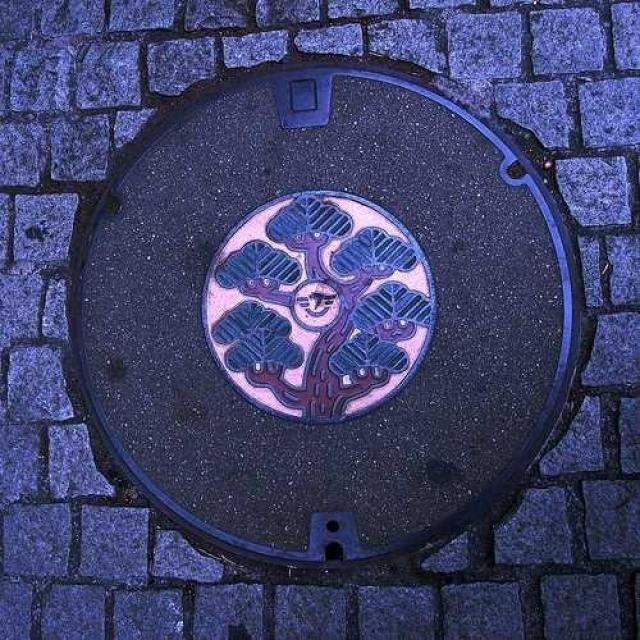manhole: (69, 56, 593, 585)
